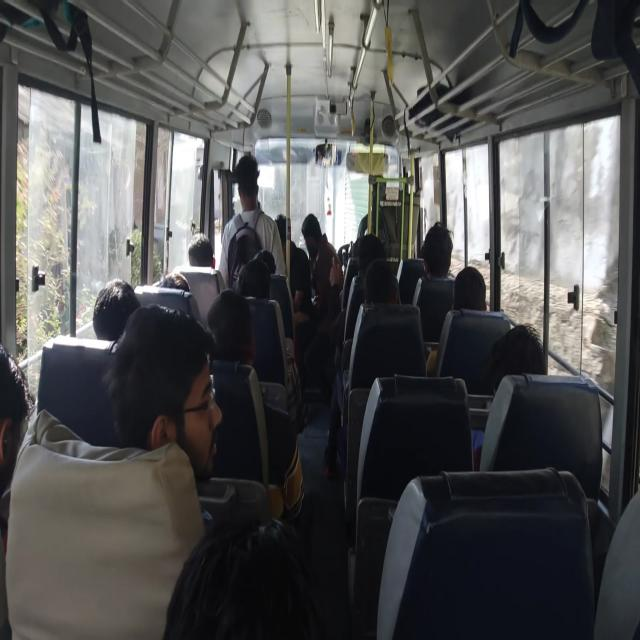person: (5, 302, 222, 638), (206, 288, 305, 519), (102, 302, 222, 478), (162, 515, 317, 639), (324, 258, 401, 478), (470, 322, 546, 470), (0, 343, 35, 637), (218, 154, 286, 290), (425, 265, 488, 376), (411, 220, 456, 342), (485, 322, 546, 396), (301, 212, 343, 314), (274, 214, 312, 316), (92, 278, 141, 341), (420, 221, 454, 280), (363, 258, 401, 306), (452, 266, 488, 311), (235, 258, 271, 299), (187, 232, 214, 267), (156, 271, 190, 291)
